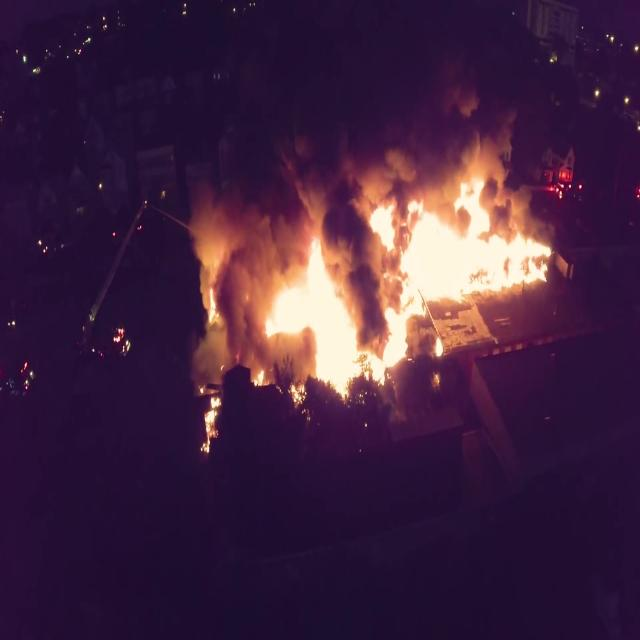Fire: (203, 155, 547, 454)
Smoke: (203, 0, 553, 409)
